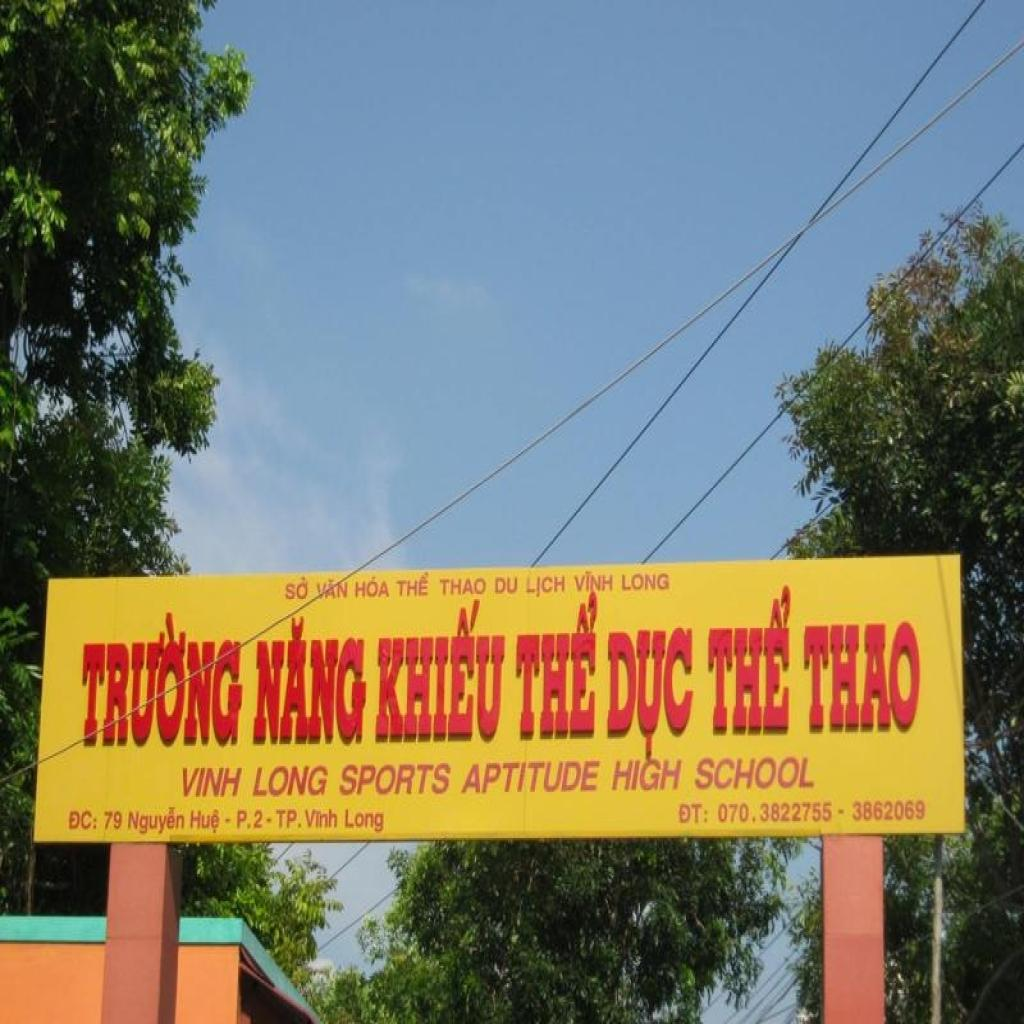text: (78, 608, 248, 749), (371, 599, 511, 746), (250, 611, 368, 746), (801, 618, 932, 734), (704, 573, 795, 739), (512, 589, 603, 744), (604, 623, 696, 763), (457, 758, 603, 797), (694, 751, 822, 792), (338, 760, 454, 800), (609, 753, 686, 795), (718, 799, 835, 826), (250, 763, 332, 800), (180, 764, 246, 800), (125, 804, 187, 836), (617, 565, 675, 596), (343, 804, 387, 836), (572, 566, 614, 596), (188, 806, 223, 840), (393, 568, 431, 599), (354, 572, 394, 600), (438, 576, 489, 596), (525, 575, 567, 599), (674, 800, 710, 828), (304, 804, 340, 831), (315, 575, 349, 603), (66, 808, 100, 836), (273, 805, 306, 833), (283, 575, 311, 604), (234, 807, 265, 833), (101, 809, 124, 833), (494, 575, 520, 596)
